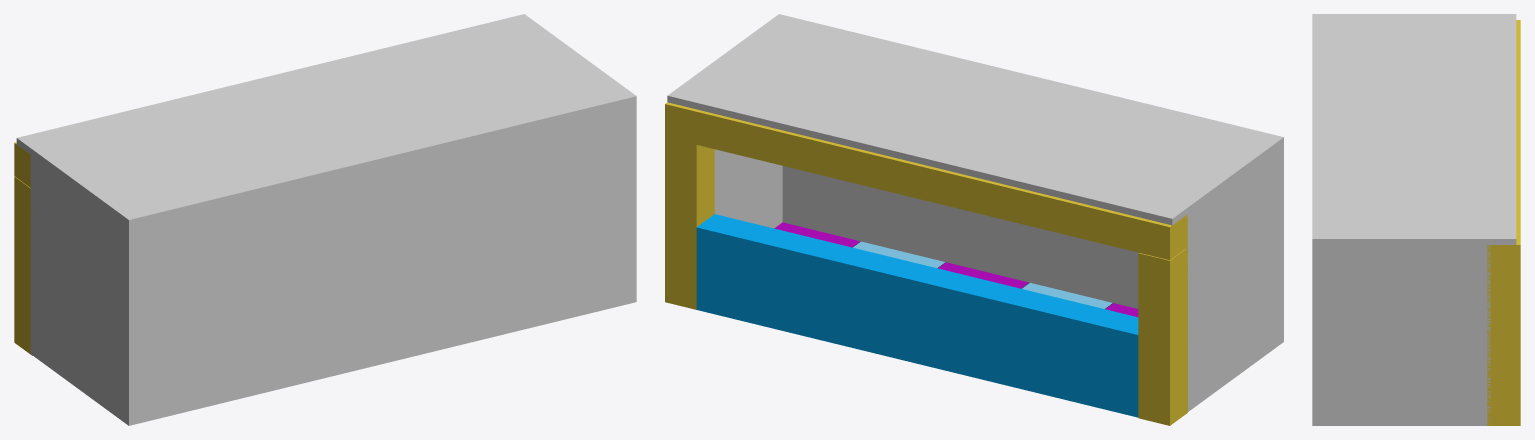
Rendered from start_gate.glb.
The picture shows the model from 3 angles, left to right: view 1: azimuth 30°, elevation 25°; view 2: azimuth 150°, elevation 25°; view 3: azimuth 270°, elevation 25°; orthographic projection. The views are drawn at different scales.
Parts seen in each view (by area): view 1: glass_wall, arch; view 2: glass_wall, gate, arch, Plane; view 3: glass_wall, arch.
Boxes of the visible parts, <box> form: glass_wall: <box>16,14,636,425</box>; arch: <box>14,142,32,355</box>; glass_wall: <box>667,14,1283,411</box>; gate: <box>696,214,1138,417</box>; arch: <box>665,102,1187,425</box>; Plane: <box>774,222,1138,317</box>; glass_wall: <box>1312,14,1516,425</box>; arch: <box>1487,20,1520,425</box>.
Size of what is drawn, in the model's own units: 16 by 6.22 by 6.26.
3 materials, 1 textured.
